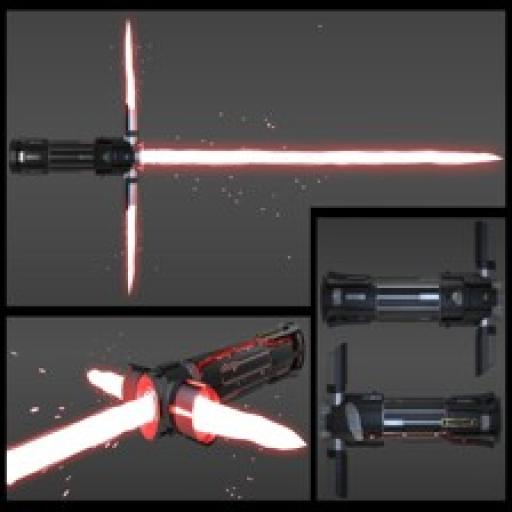sith saber: (11, 16, 512, 288), (0, 319, 309, 504)
